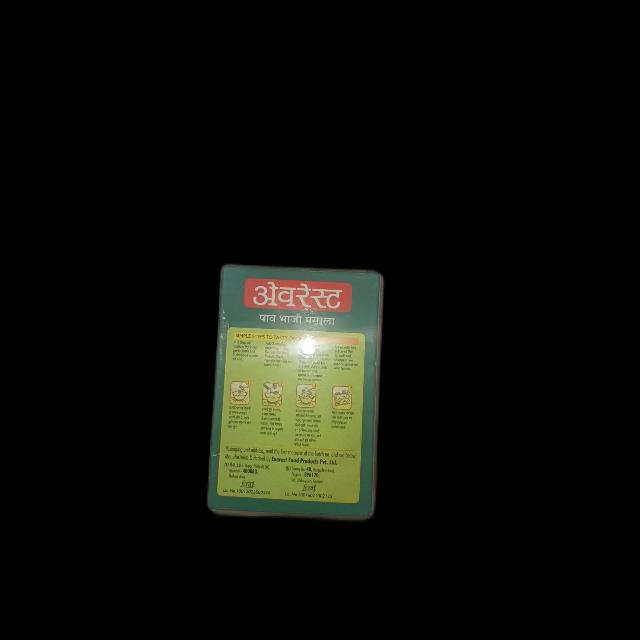Everest Pav Bhaji Masala 100 g: (206, 256, 378, 522)
